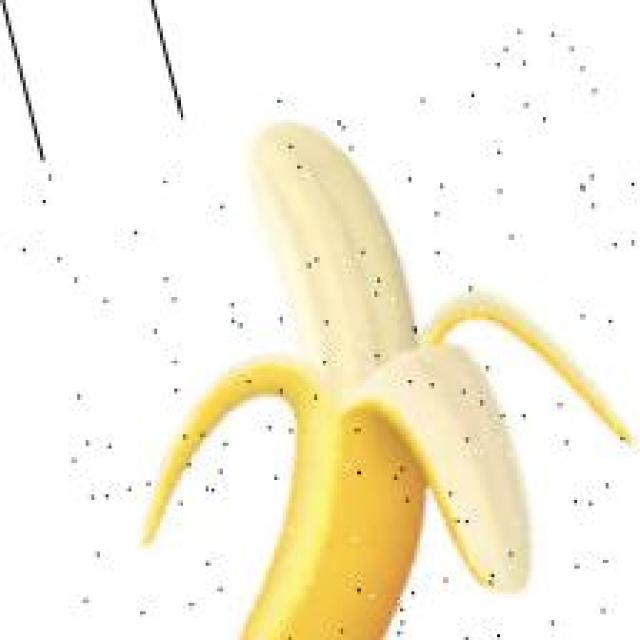banana: (106, 85, 624, 640)
